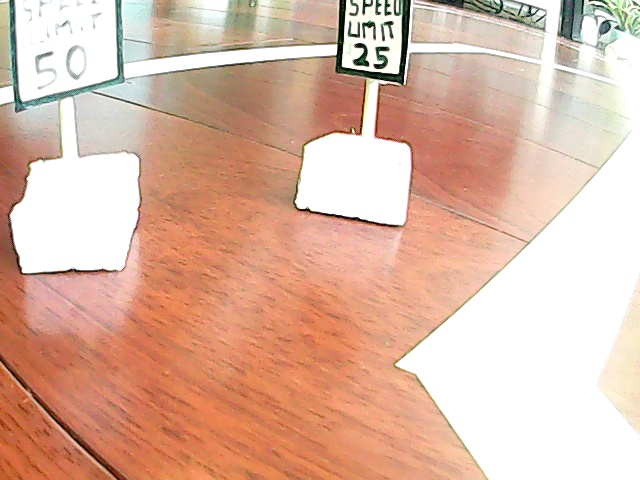speed_25: (299, 1, 427, 228)
speed_50: (12, 1, 152, 268)
